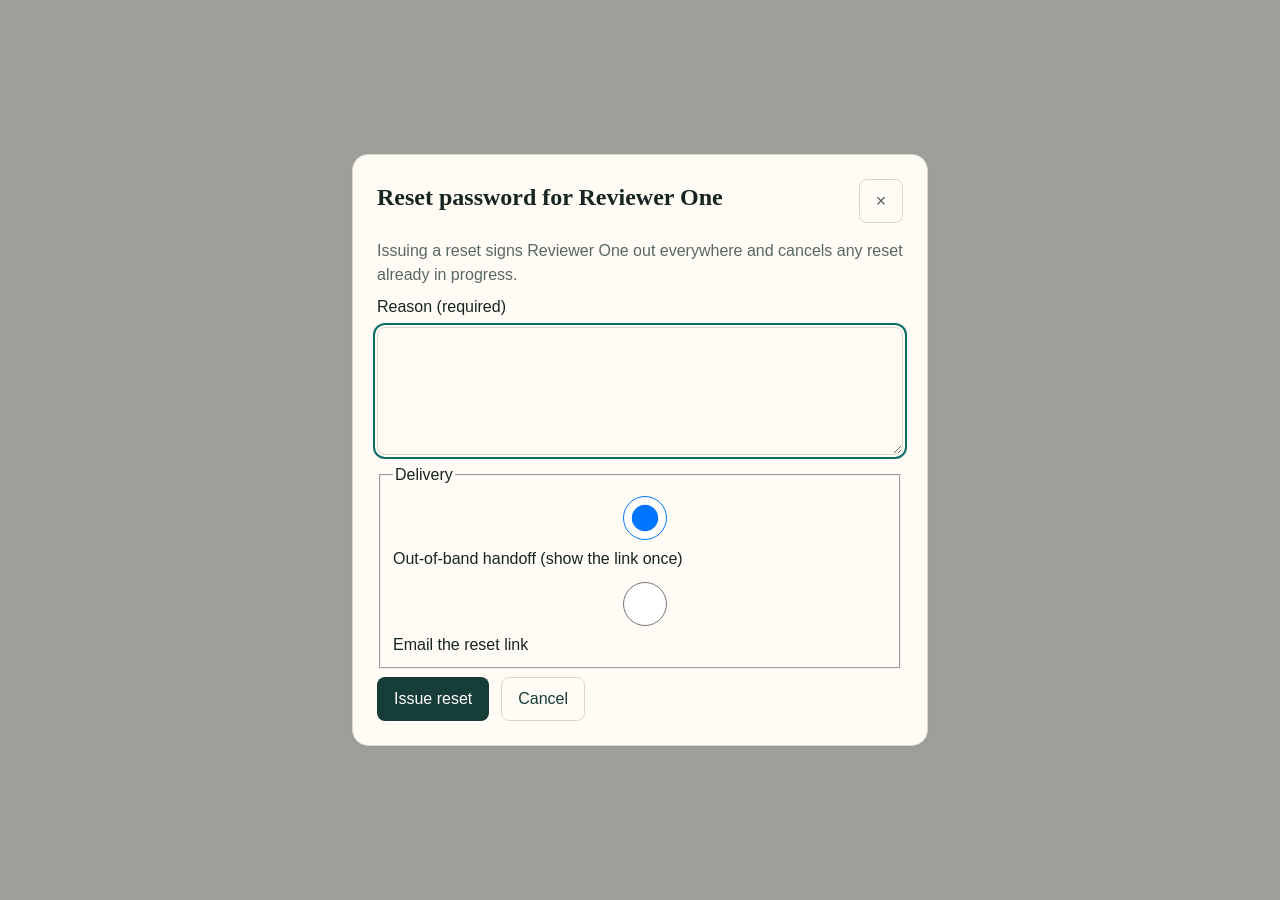
Test: AccountPasswordResetModal › keeps non-self emailed-delivery copy unchanged
Click the radio button labelled "Email the reset link": (645, 604) [398,582,892,626]
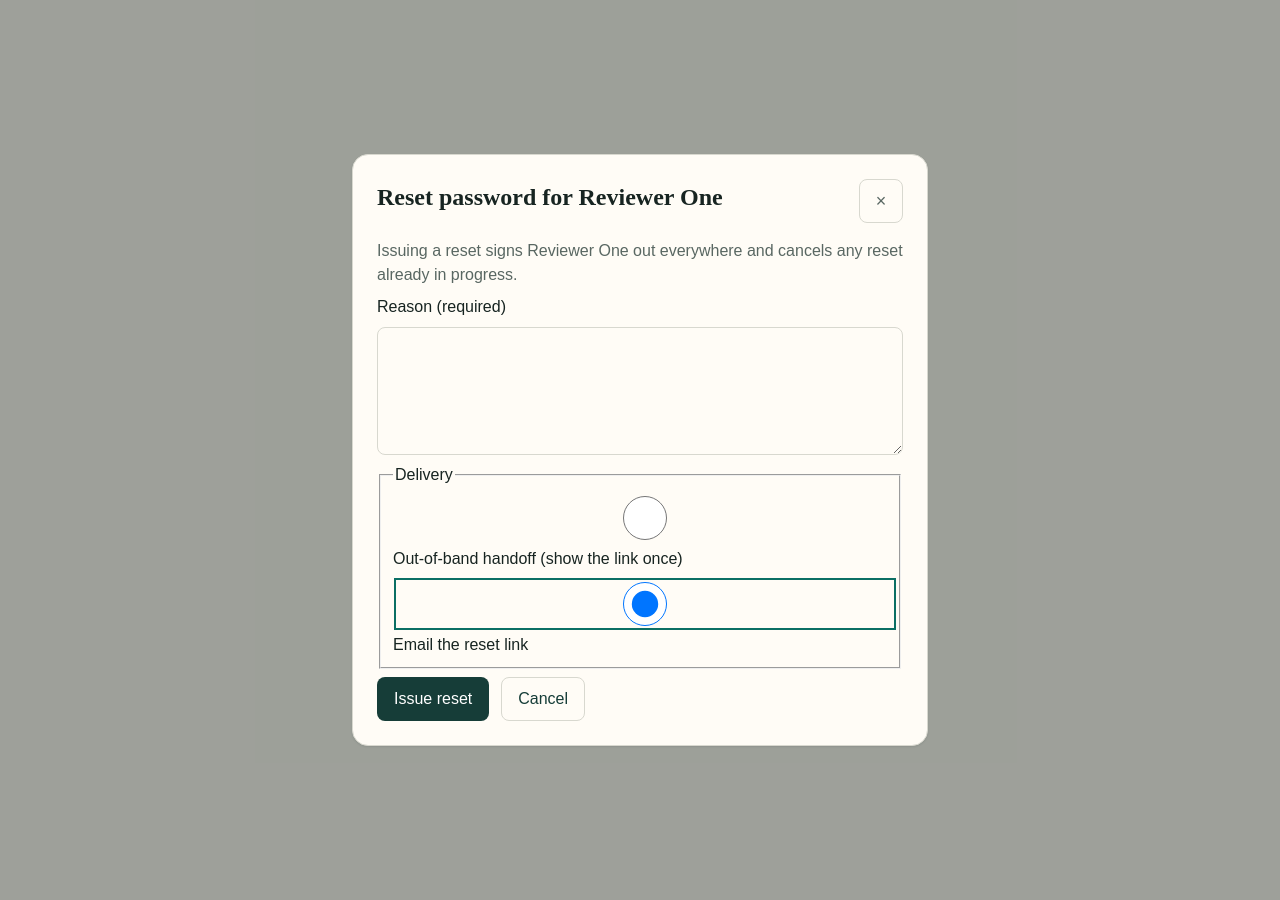
In the text box labelled "Reason (required)": (640, 391) [377,327,903,455], type "User forgot their password at the front desk."
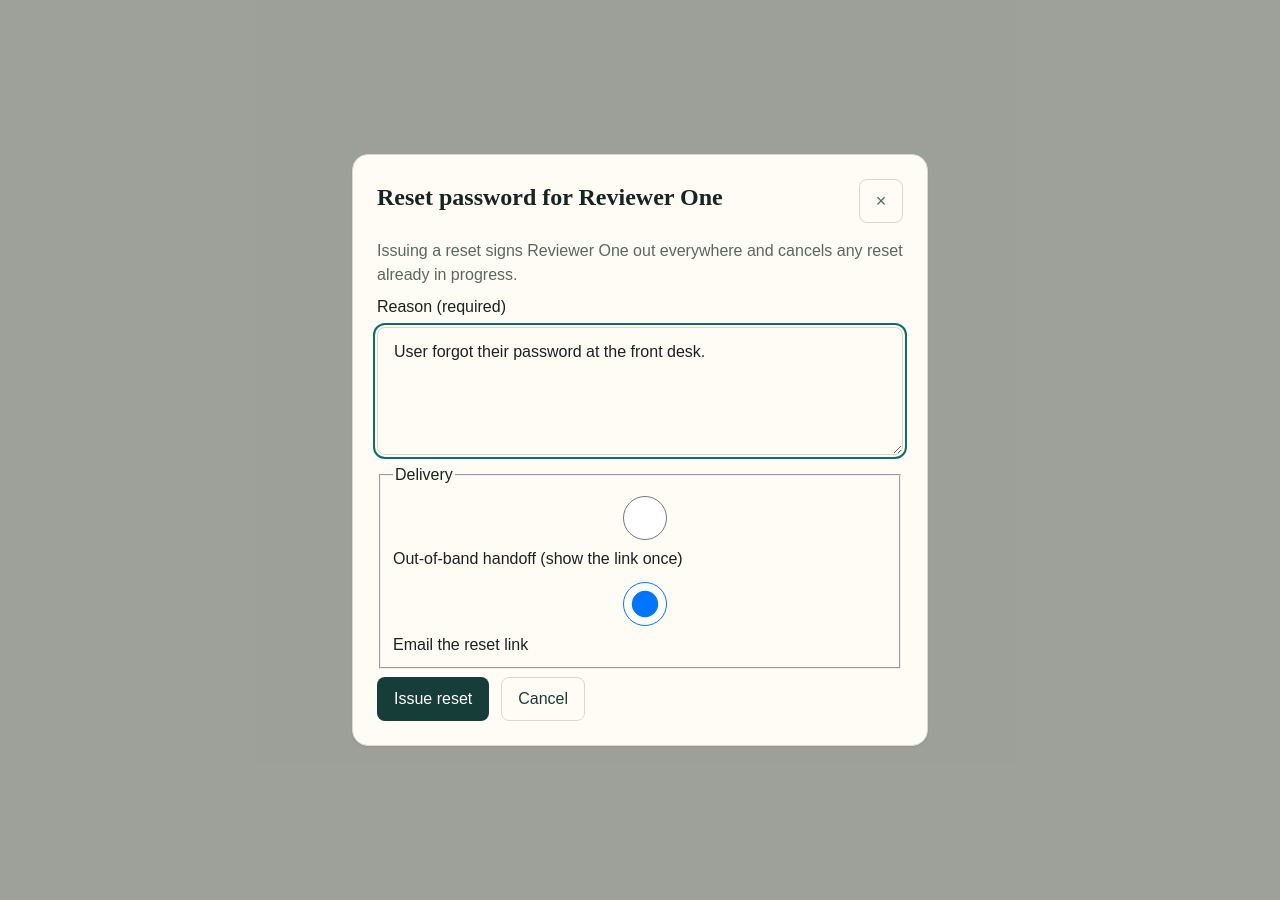
Click the button "Issue reset": (433, 699) [377,677,489,721]
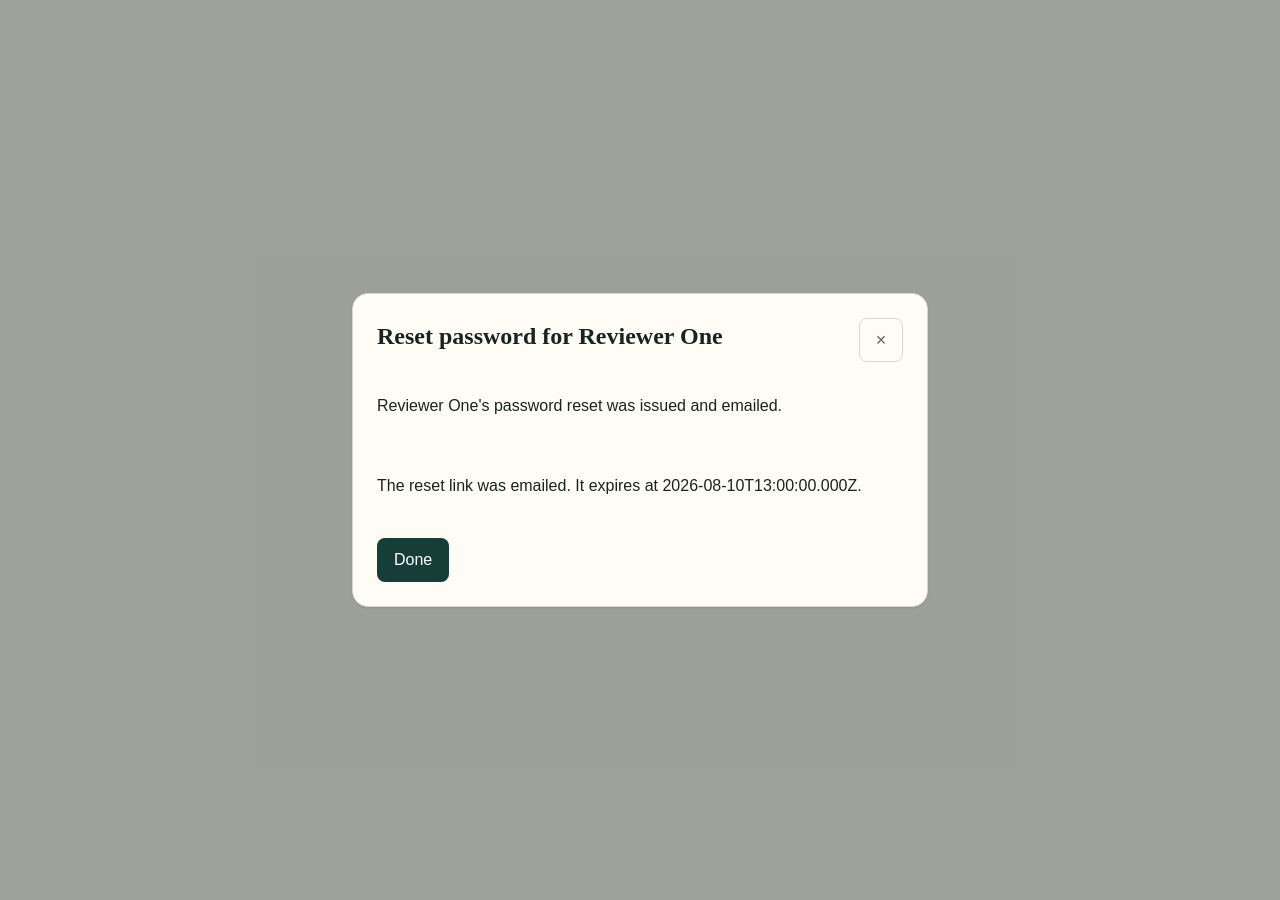
expect the text "The reset link was emailed. It expires at 2026-08-10T13:00:00.000Z." is shown: met, box [377,474,903,498]
